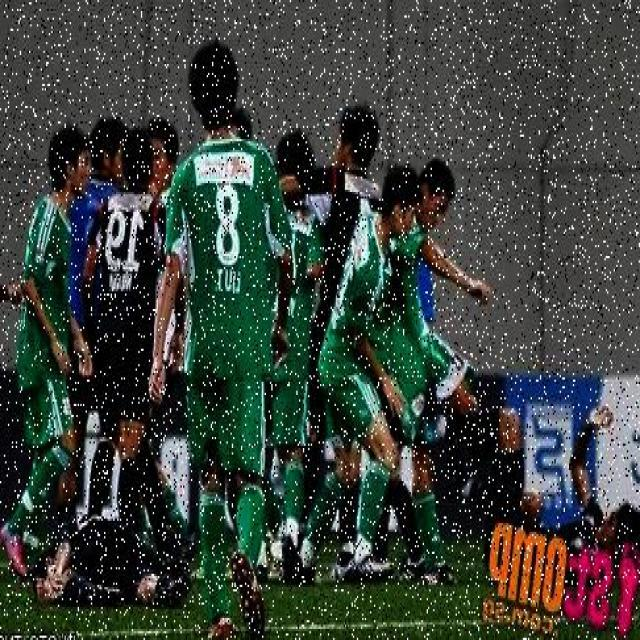fall: (454, 396, 634, 560)
